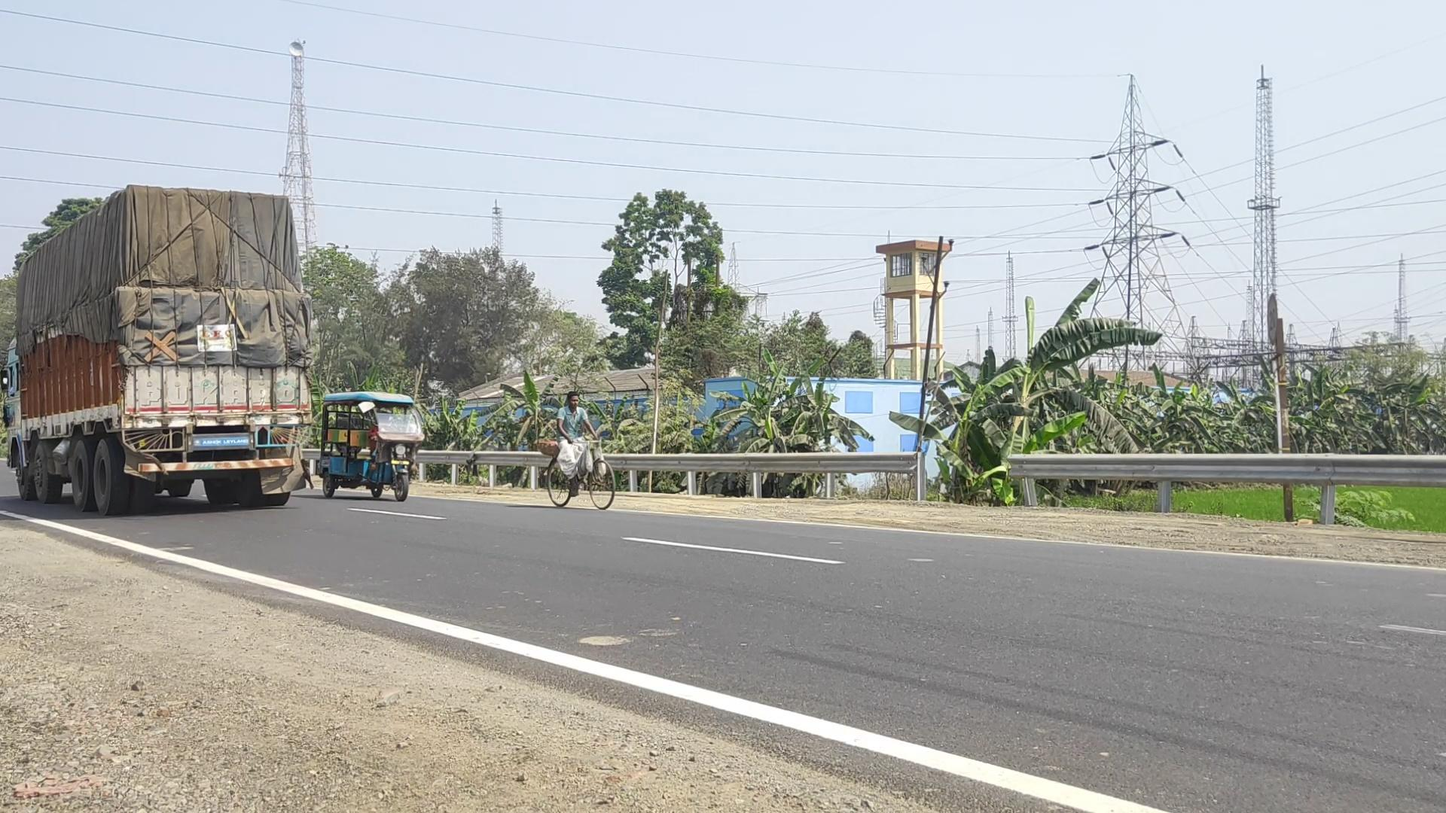Auto: (319, 391, 424, 502)
bike: (536, 392, 616, 510)
truck: (1, 185, 312, 516)
